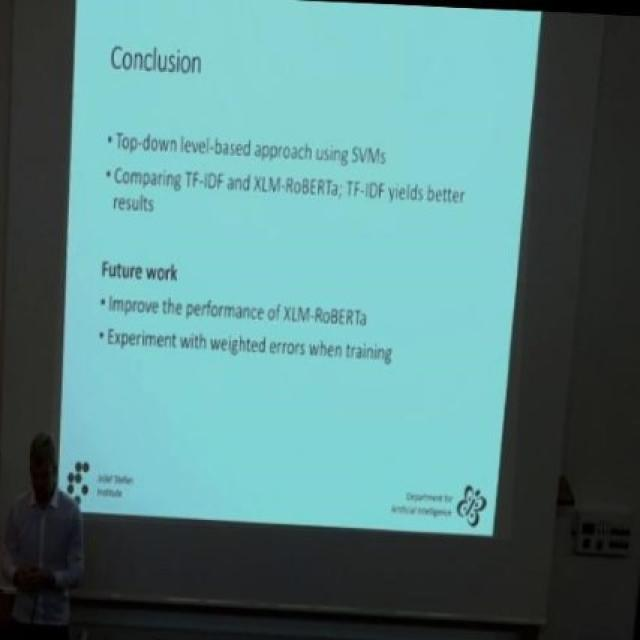Instructor: (0, 418, 84, 622)
Slide: (54, 2, 548, 545)
